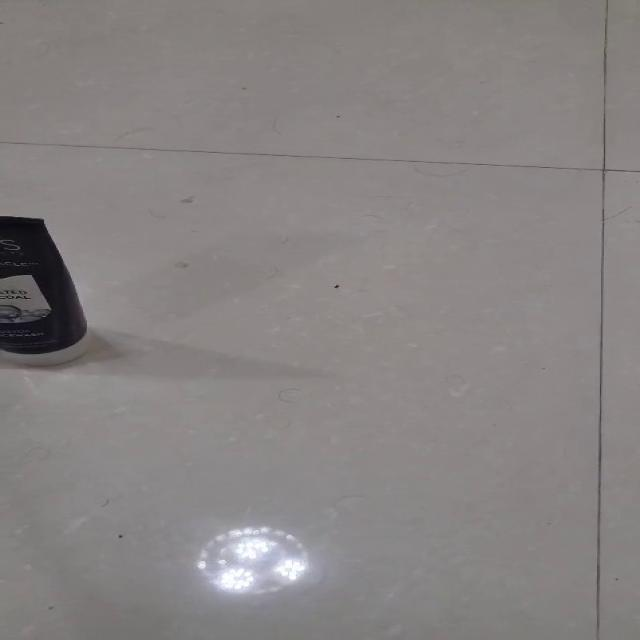plastic: (0, 215, 90, 366)
